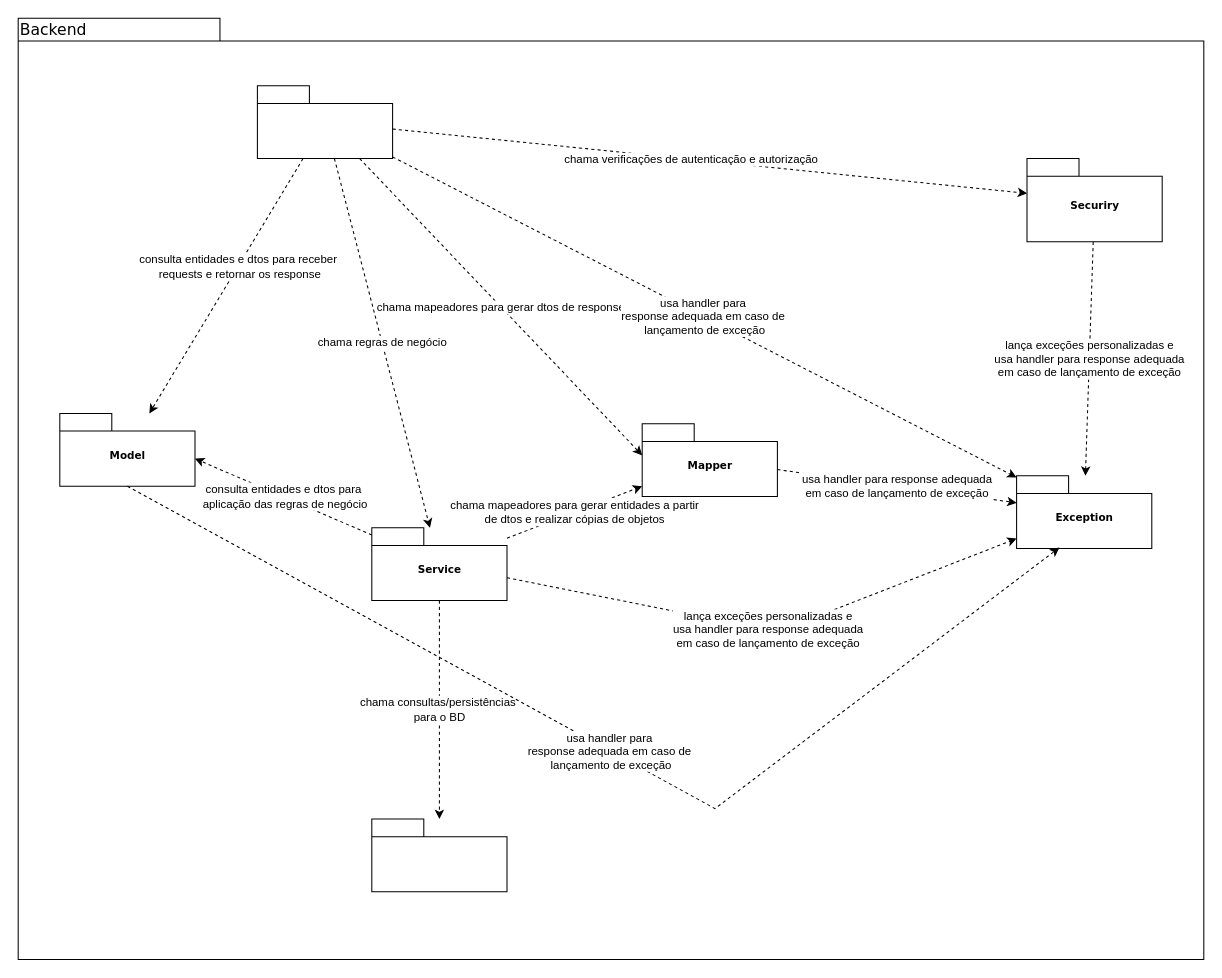
This 1222x978 diagram has some shape labels left out. The shapes that lost their labels are listed below. From the top down, each one's box as (x1, y1, x2, y2) in pixels, then its label:
(256, 85, 393, 159): Controller
(371, 818, 507, 892): Repository
